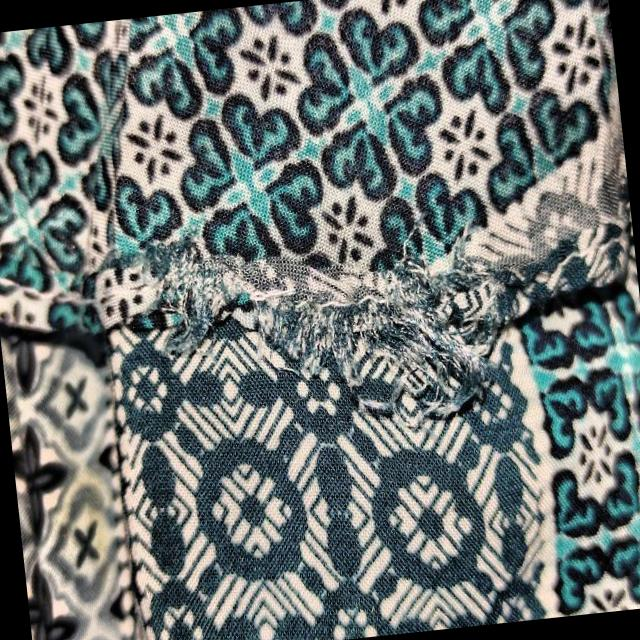gray stitch: (136, 194, 541, 472)
